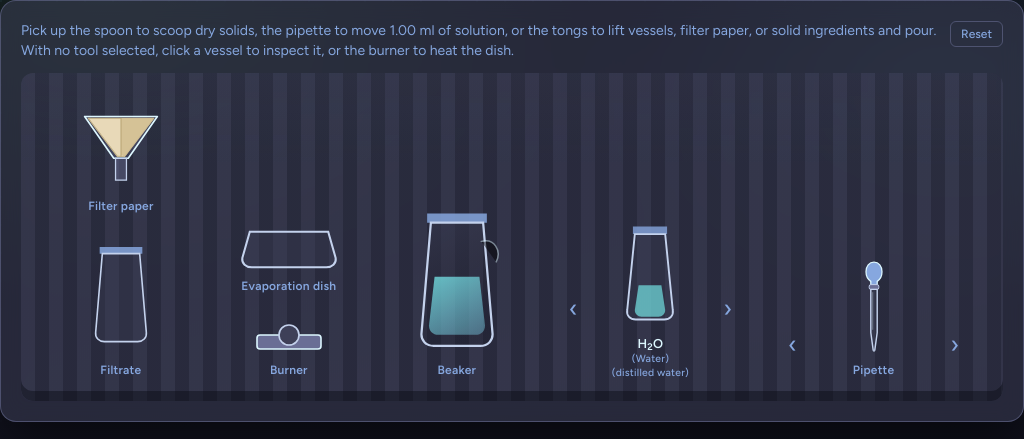
Test: LabBench load / carousel / layout › wraps the tool carousel pipette → spoon → tongs and hides the other tools from the DOM
Expected: the button "Pipette" is shown, top-left (850, 253), bottom-right (898, 385)
Expected: the button "Tongs" is not shown
Click the button named "Next tool" at (955, 345), box top-left (942, 323), bottom-right (967, 367)
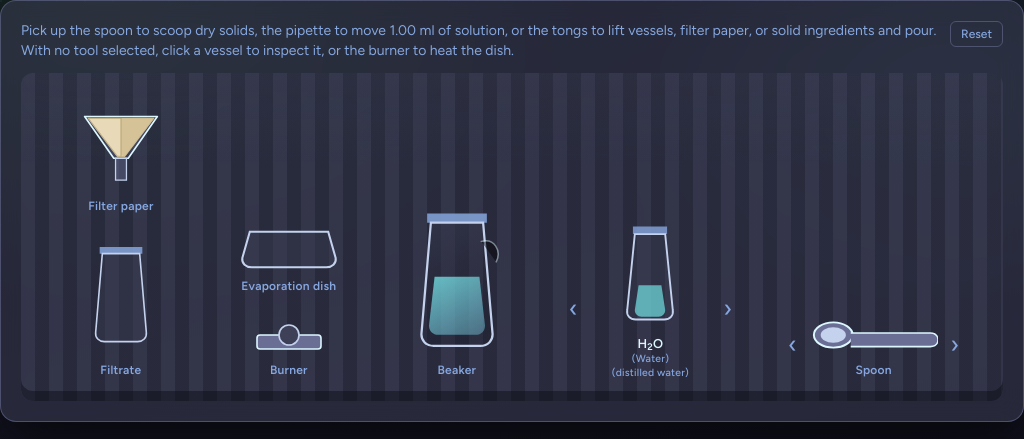
Expected: the button "Tongs" is not shown
Result: the button "Spoon" is shown at top-left (806, 309), bottom-right (941, 385)
Click the button named "Next tool" at (955, 345), box top-left (942, 323), bottom-right (967, 367)
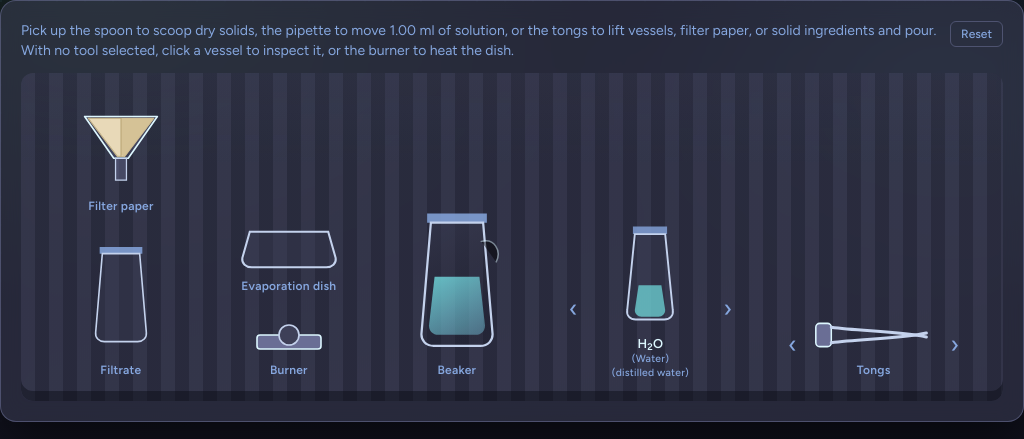
Result: the button "Tongs" is shown at top-left (806, 309), bottom-right (941, 385)
Click the button named "Next tool" at (955, 345), box top-left (942, 323), bottom-right (967, 367)
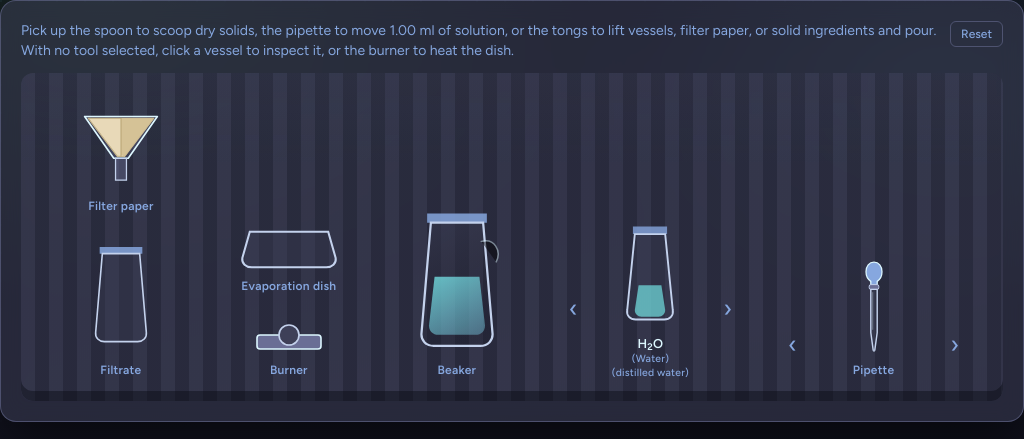
Expected: the button "Tongs" is not shown
Result: the button "Pipette" is shown at top-left (850, 253), bottom-right (898, 385)
Click the button named "Previous tool" at (792, 345), box top-left (780, 323), bottom-right (805, 367)
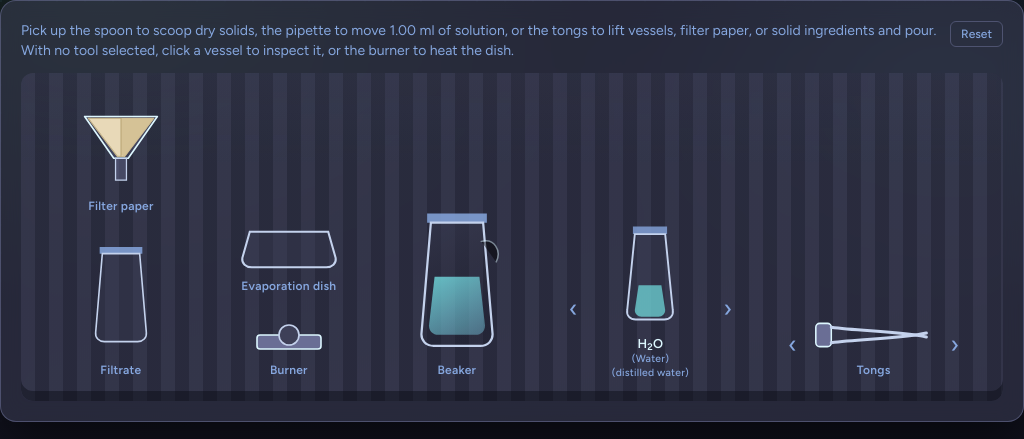
Result: the button "Tongs" is shown at top-left (806, 309), bottom-right (941, 385)
